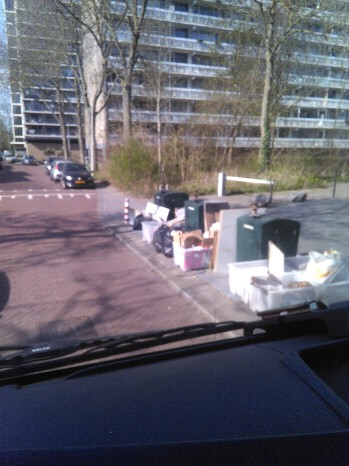Container: (240, 205, 302, 259), (182, 191, 214, 227), (149, 185, 184, 214)
Rest: (219, 255, 324, 304), (177, 234, 215, 276), (138, 227, 179, 252), (221, 201, 235, 268), (135, 211, 163, 240)
Voertuig: (62, 165, 100, 198), (50, 153, 73, 177), (16, 154, 44, 164)
